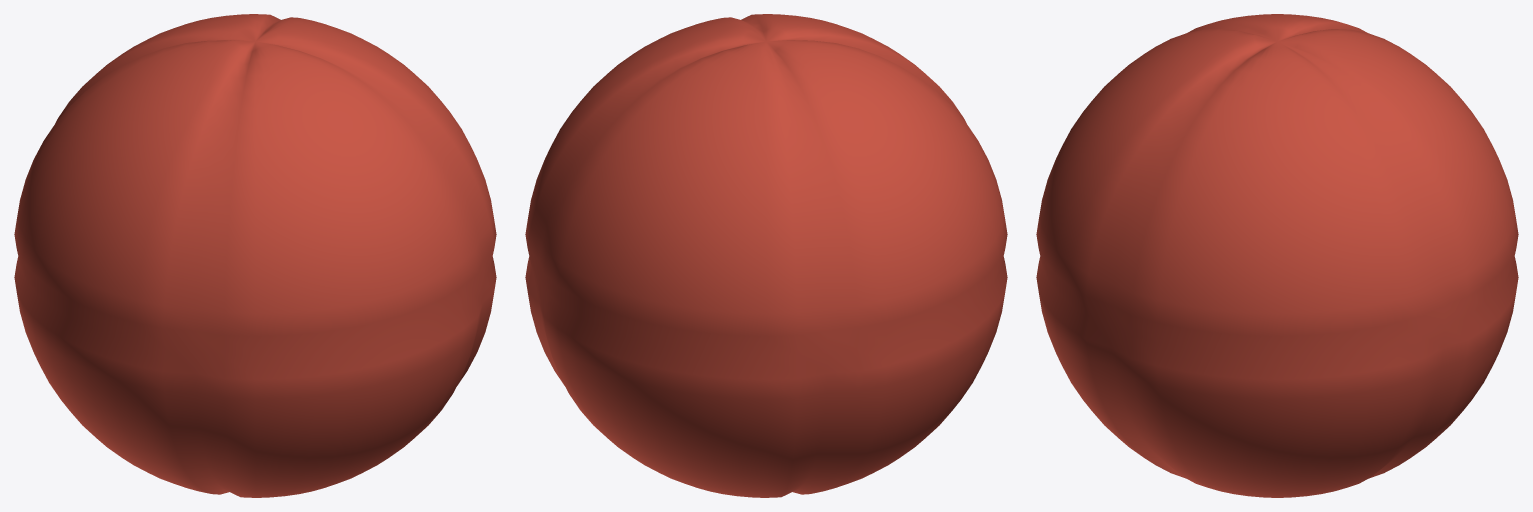
Rendered from ball.glb.
The picture shows the model from 3 angles, left to right: view 1: azimuth 30°, elevation 25°; view 2: azimuth 150°, elevation 25°; view 3: azimuth 270°, elevation 25°; orthographic projection.
Parts seen in each view (by area): view 1: ball; view 2: ball; view 3: ball.
Part boxes in pixels (box(x1,y1,x2,y2)): ball: box(14, 14, 496, 497); ball: box(525, 14, 1007, 497); ball: box(1036, 14, 1518, 497).
Size of the model in its own units: 0.1493 by 0.1493 by 0.1493.
